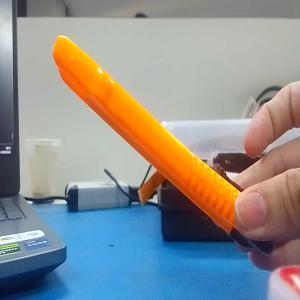estilete: (52, 35, 276, 257)
